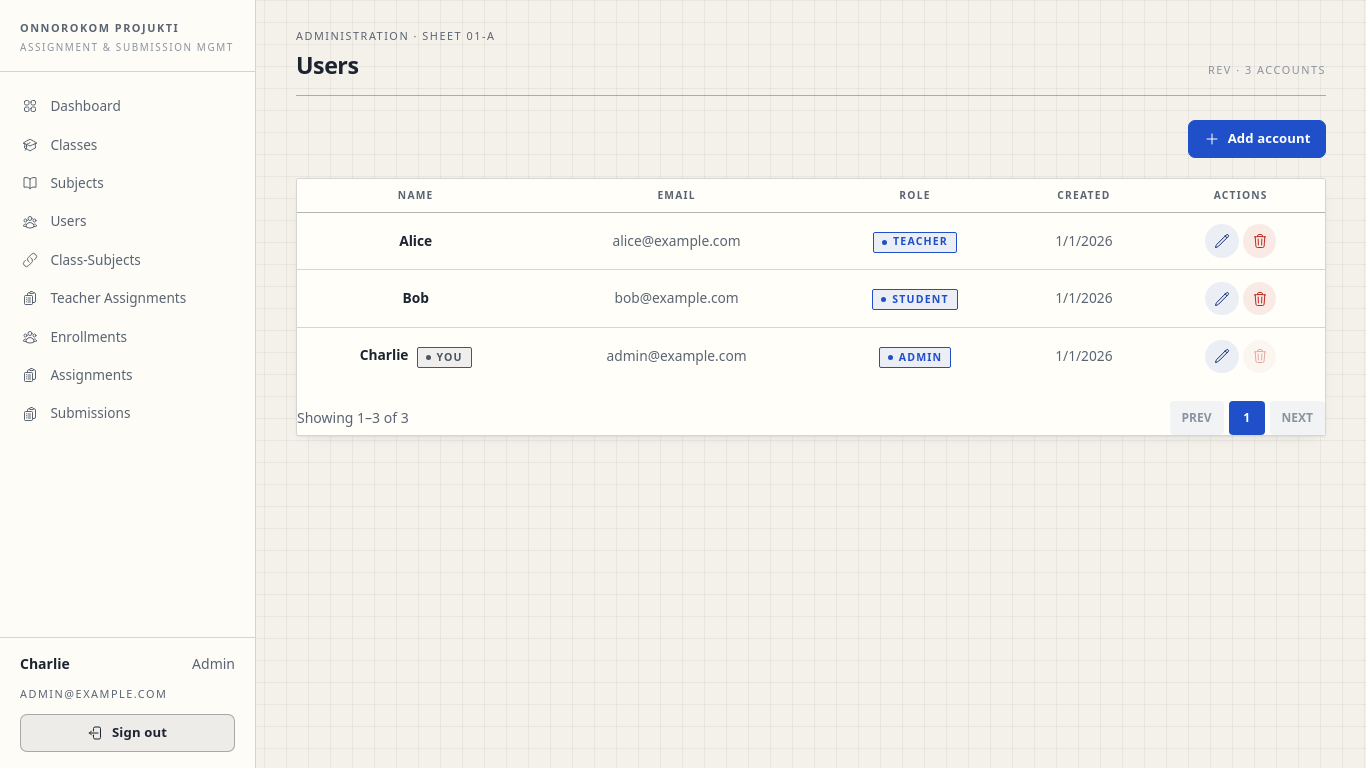
Test: AdminUsersPage › disables save until a self role or deletion is chosen when transferring admin
Click the button named "Edit Bob" at (1222, 299), box top-left (1205, 282), bottom-right (1239, 316)
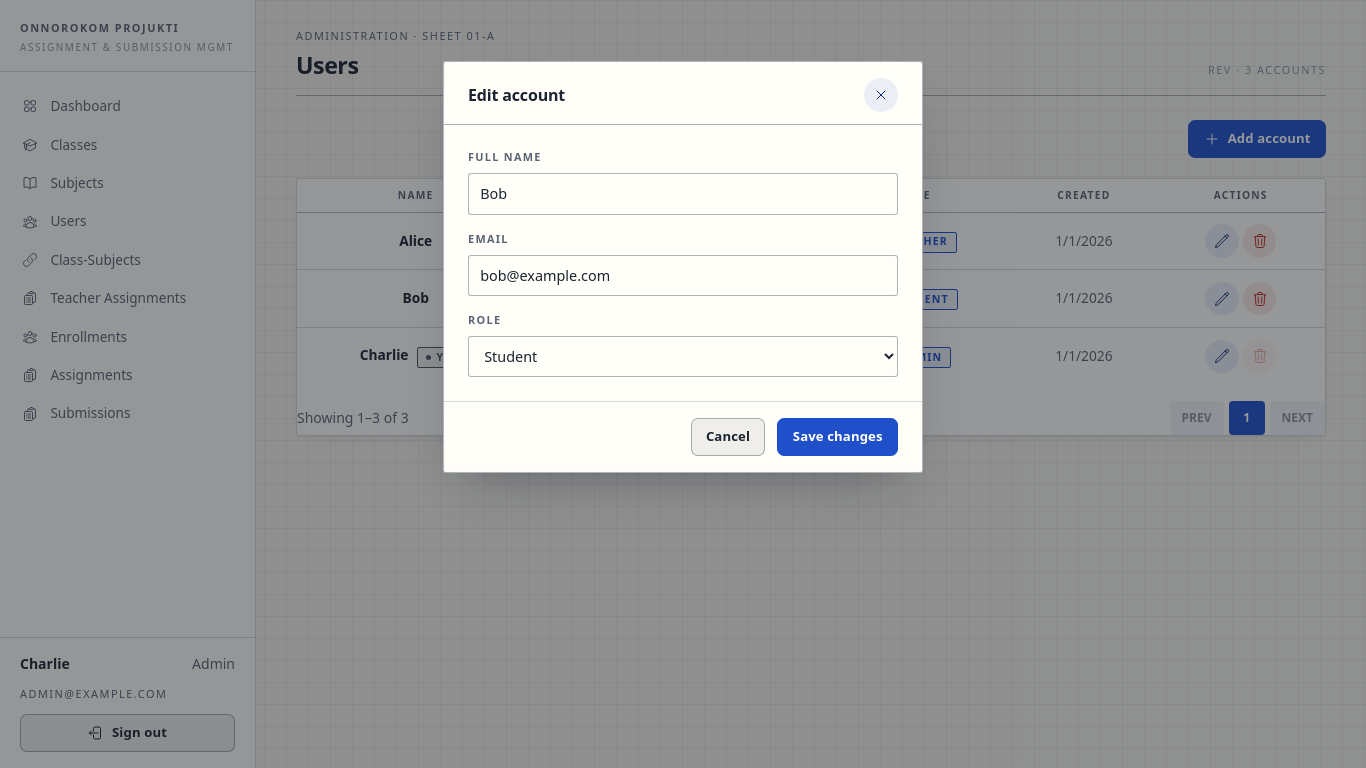
expect the dropdown labelled "Role" shows "Student": met
Select "Admin" in the dropdown labelled "Role" at (683, 357), box top-left (468, 336), bottom-right (898, 377)
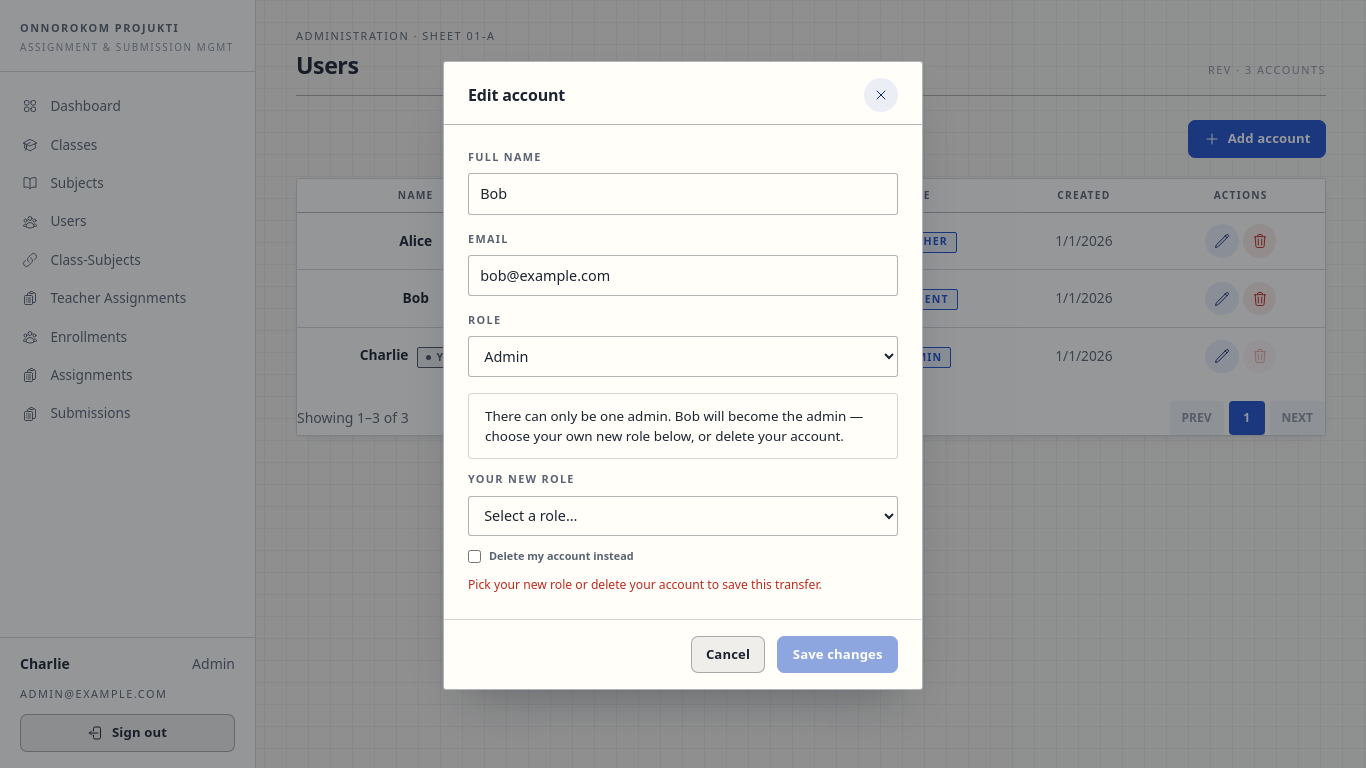
expect the dropdown labelled "Your new role" is shown: met
expect the button "Save changes" is disabled: met, box top-left (777, 636), bottom-right (898, 673)
expect the text "Pick your new role or delete your account" is shown: met, box top-left (468, 576), bottom-right (822, 593)
Select "Teacher" in the dropdown labelled "Your new role" at (683, 516), box top-left (468, 496), bottom-right (898, 536)
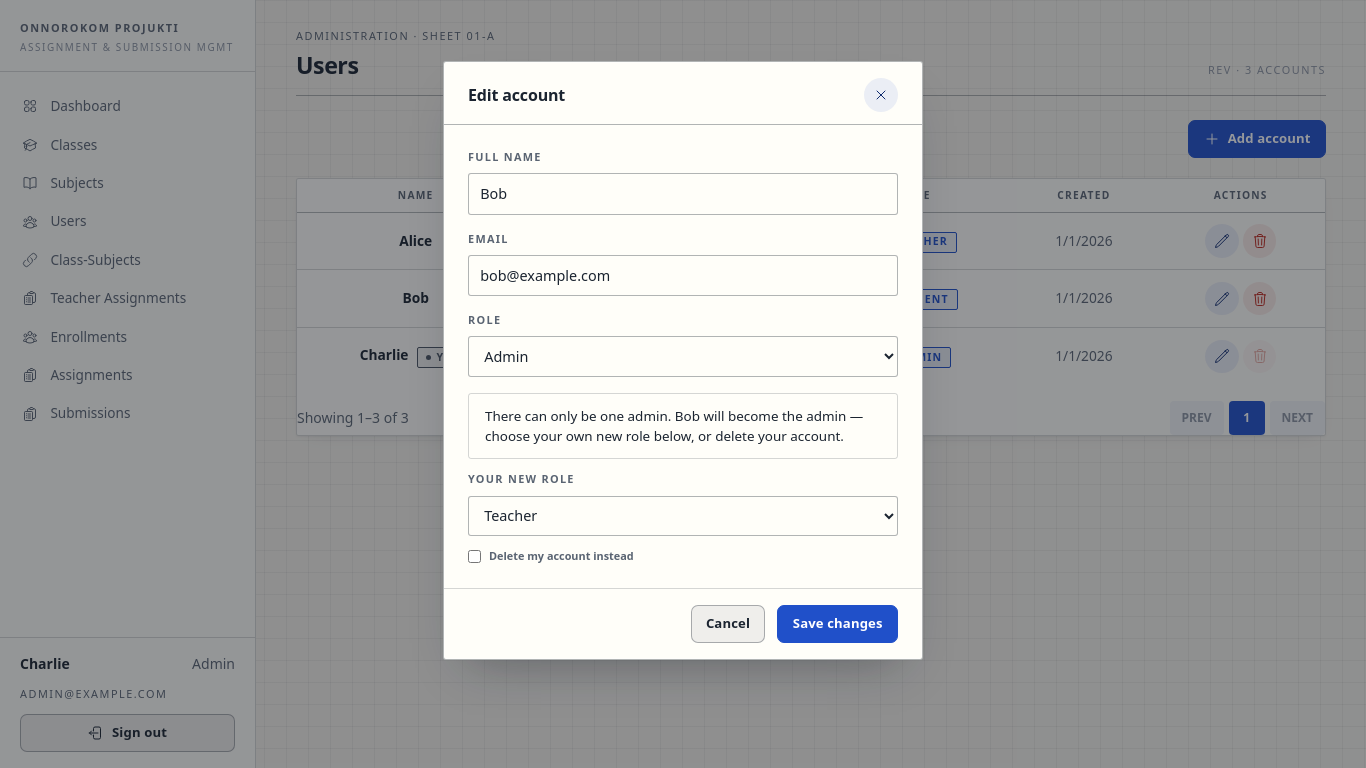
expect the button "Save changes" is enabled: met, box top-left (777, 605), bottom-right (898, 643)
